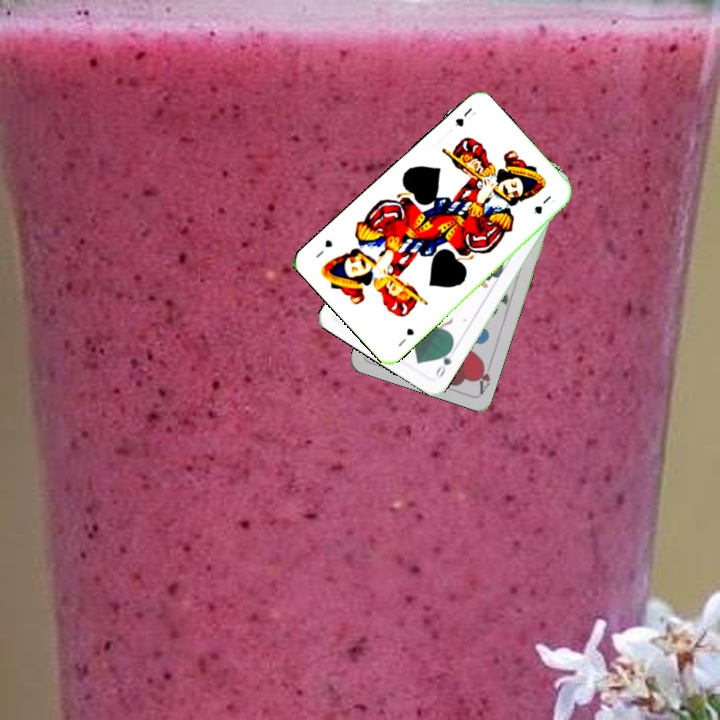GO: (432, 343, 455, 380)
GU: (451, 103, 479, 129), (394, 324, 417, 349)
HA: (473, 356, 495, 396)
